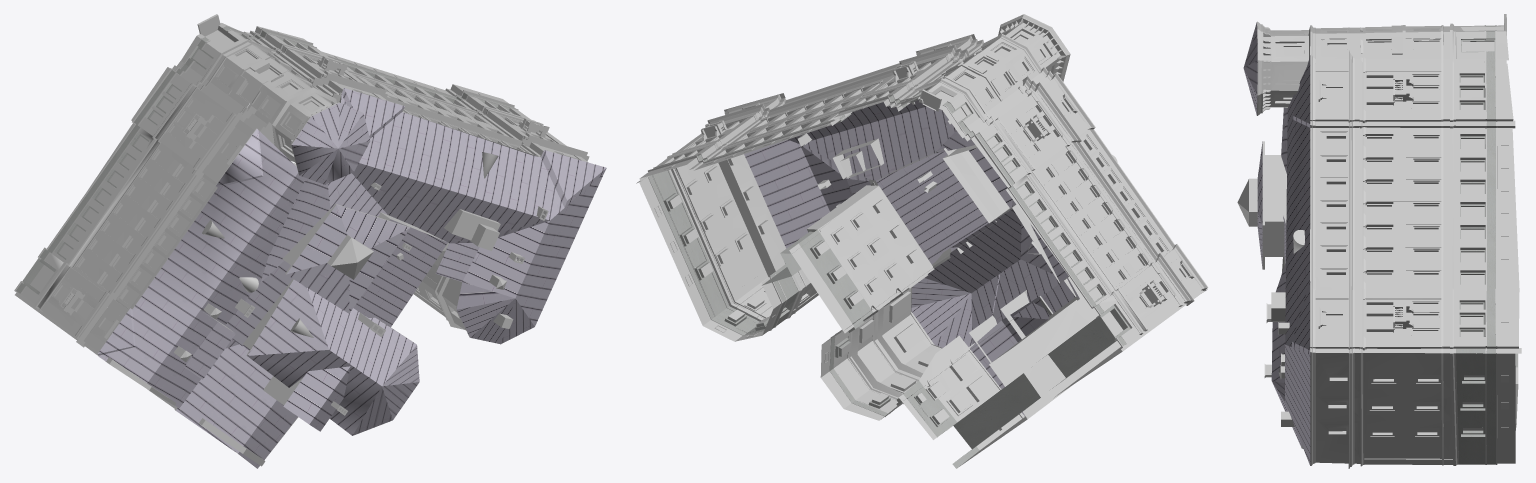
File: Parnu7.obj
The picture shows the model from 3 angles, left to right: view 1: azimuth 30°, elevation 25°; view 2: azimuth 150°, elevation 25°; view 3: azimuth 270°, elevation 25°; orthographic projection. The views are drawn at different scales.
Visible parts, largest first — view 1: p7_obj; view 2: p7_obj; view 3: p7_obj.
Boxes of the visible parts, x1,y1,x2,y2 form: p7_obj: [14, 14, 606, 468]; p7_obj: [636, 14, 1208, 468]; p7_obj: [1237, 14, 1521, 468].
Size of the model in its own units: 60.66 by 44.4 by 26.83.
